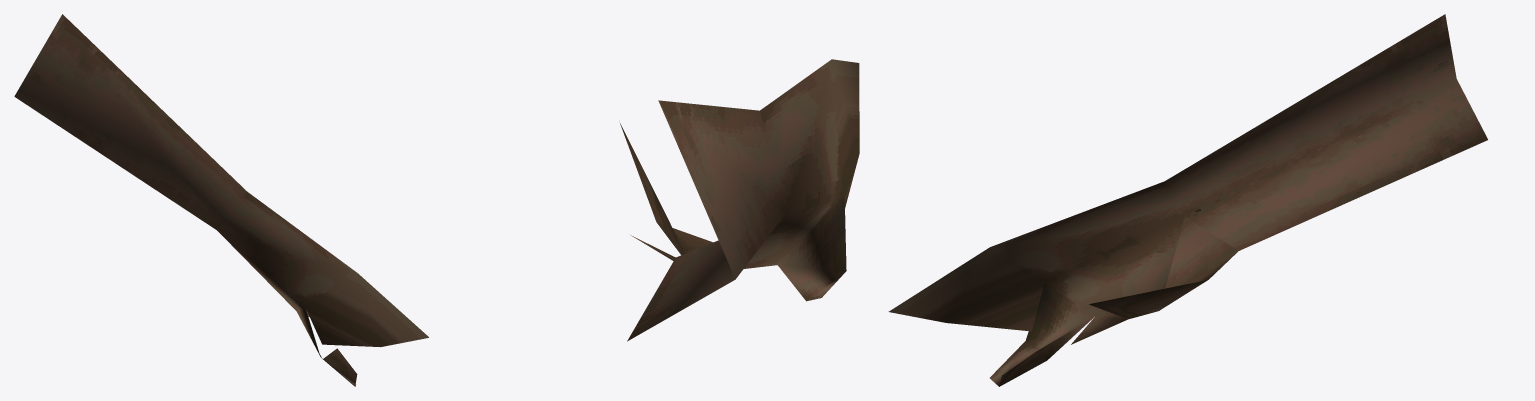
Rendered from SHO_ARM.obj.
3 renders of one model, left to right at view 1: azimuth 30°, elevation 25°; view 2: azimuth 150°, elevation 25°; view 3: azimuth 270°, elevation 25°, orthographic. The views are drawn at different scales.
Visible parts, largest first — view 1: SHOTGUN.001_pistol_q2_SS_v1_0000_submodel00_mesh0000.000; view 2: SHOTGUN.001_pistol_q2_SS_v1_0000_submodel00_mesh0000.000; view 3: SHOTGUN.001_pistol_q2_SS_v1_0000_submodel00_mesh0000.000.
Boxes of the visible parts, box(x1,y1,x2,y2) form: SHOTGUN.001_pistol_q2_SS_v1_0000_submodel00_mesh0000.000: box(14, 14, 428, 386); SHOTGUN.001_pistol_q2_SS_v1_0000_submodel00_mesh0000.000: box(620, 59, 859, 341); SHOTGUN.001_pistol_q2_SS_v1_0000_submodel00_mesh0000.000: box(888, 14, 1487, 386).
Size of the model in its own units: 1.62 by 1.9 by 3.5.
